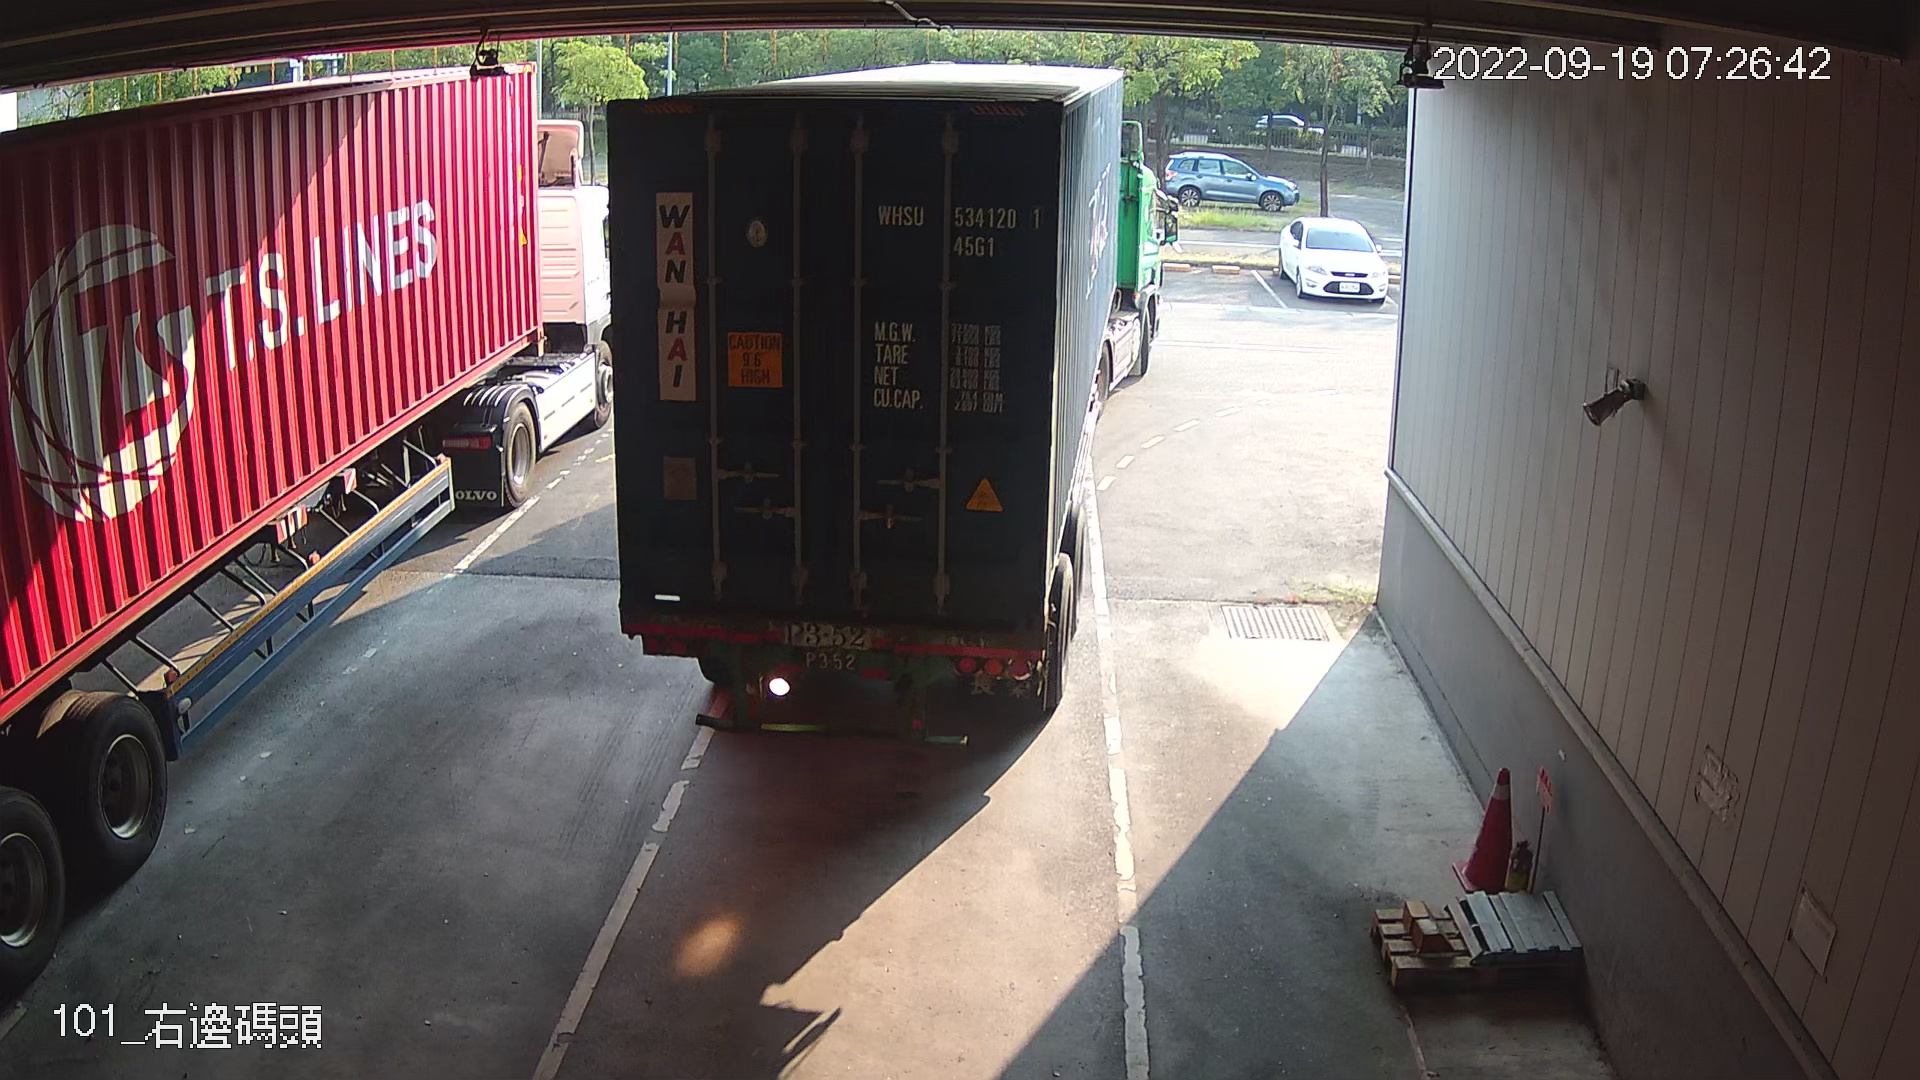container: (869, 190, 1050, 270)
